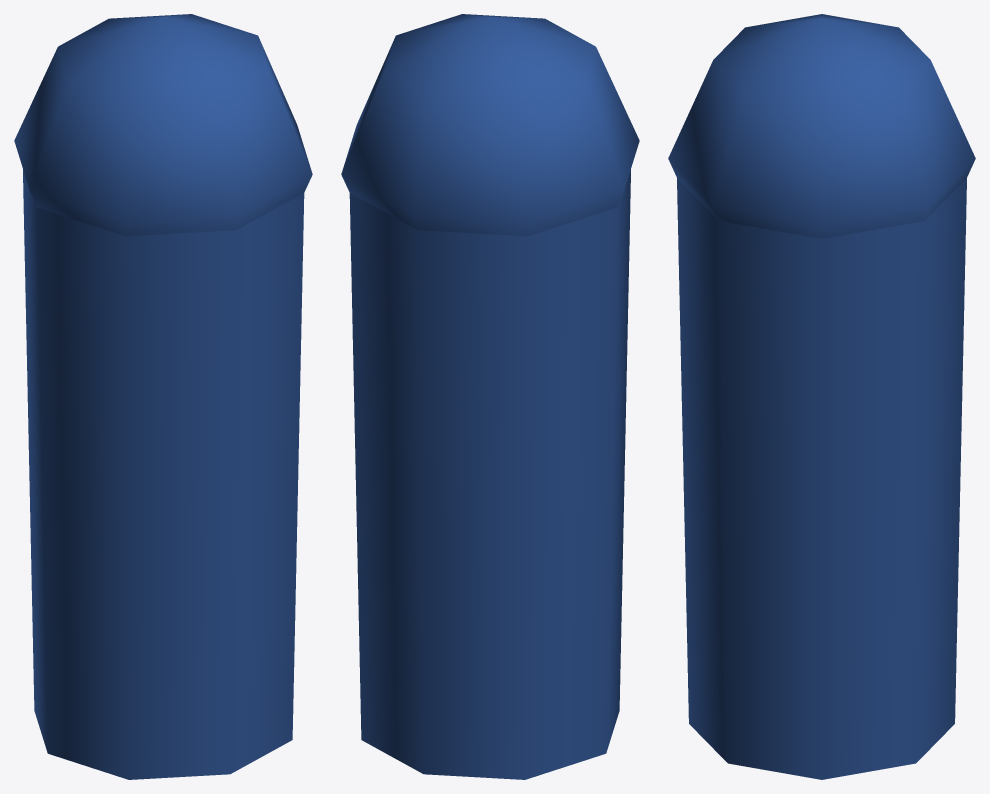
The model's file is PCaminante_Brazo.obj.
The picture shows the model from 3 angles, left to right: view 1: azimuth 30°, elevation 25°; view 2: azimuth 150°, elevation 25°; view 3: azimuth 270°, elevation 25°; orthographic projection.
Parts seen in each view (by area): view 1: Brazo; view 2: Brazo; view 3: Brazo.
Part boxes in pixels (left/top/right/bottom): Brazo: left=14, top=14, right=312, bottom=779; Brazo: left=341, top=14, right=639, bottom=779; Brazo: left=668, top=14, right=975, bottom=779.
Size of the model in its own units: 0.074 by 0.187 by 0.074.
1 material, 1 textured.
